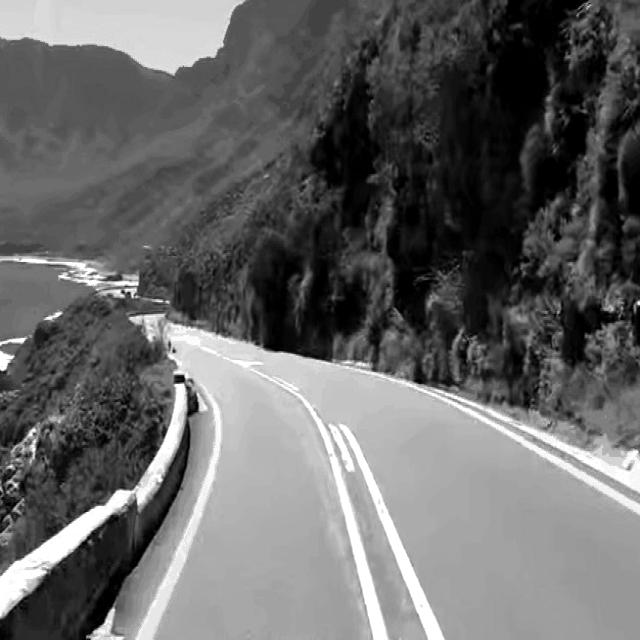cleat: (100, 299, 640, 640)
